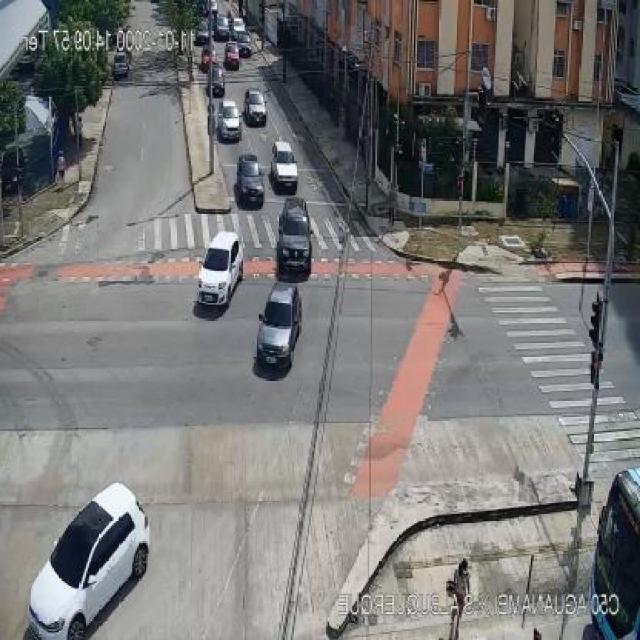Car: (26, 483, 149, 635), (256, 282, 304, 369), (197, 231, 245, 306), (276, 198, 312, 276), (237, 153, 266, 205), (269, 140, 298, 190), (218, 100, 242, 140), (244, 89, 268, 126), (207, 66, 226, 96), (112, 52, 130, 80), (234, 30, 253, 56), (224, 42, 240, 70), (195, 20, 211, 46), (215, 16, 231, 40), (231, 17, 245, 37)
